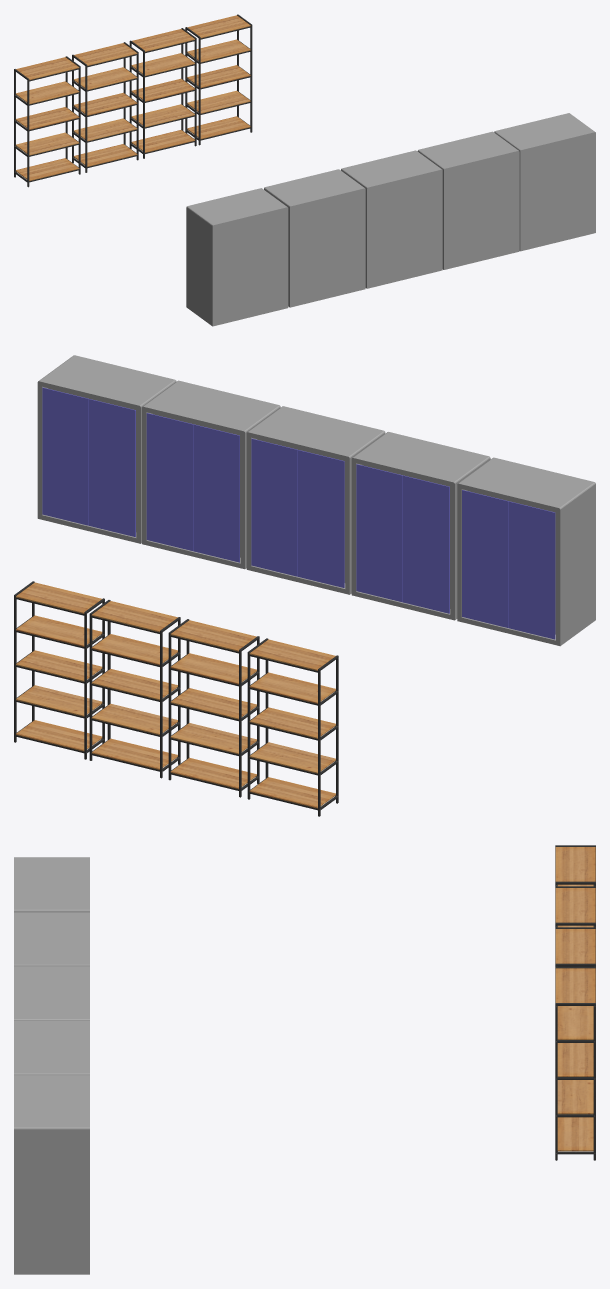
Rendered from Scale.fbx_Workshop.fbx.
3 renders of one model, top to bottom at view 1: azimuth 30°, elevation 25°; view 2: azimuth 150°, elevation 25°; view 3: azimuth 270°, elevation 25°, orthographic. The views are drawn at different scales.
Parts seen in each view (by area): view 1: Cube.012, Cube.014, Cube.016, Cube.018, Cube.020, steel_frame_shelves_01, steel_frame_shelves_01.002, steel_frame_shelves_01.001, steel_frame_shelves_01.003; view 2: Cube.013, Cube.015, Cube.017, Cube.019, Cube.021, Cube.012, steel_frame_shelves_01, steel_frame_shelves_01.001, steel_frame_shelves_01.002, steel_frame_shelves_01.003, Cube.014, Cube.016 (+2 smaller); view 3: Cube.020, steel_frame_shelves_01.003, Cube.012, Cube.014, Cube.016, Cube.018, steel_frame_shelves_01, steel_frame_shelves_01.001, steel_frame_shelves_01.002.
Part boxes in pixels (x1,y1,x2,y2): Cube.012: [186, 188, 288, 326]; Cube.014: [264, 169, 365, 307]; Cube.016: [341, 150, 442, 288]; Cube.018: [417, 131, 519, 269]; Cube.020: [494, 113, 595, 251]; steel_frame_shelves_01: [14, 56, 80, 187]; steel_frame_shelves_01.002: [129, 28, 196, 158]; steel_frame_shelves_01.001: [72, 42, 138, 172]; steel_frame_shelves_01.003: [185, 14, 252, 145]; Cube.013: [462, 490, 555, 639]; Cube.015: [356, 464, 449, 613]; Cube.017: [251, 438, 344, 587]; Cube.019: [146, 413, 239, 562]; Cube.021: [42, 387, 135, 536]; Cube.012: [457, 457, 595, 646]; steel_frame_shelves_01: [247, 638, 338, 816]; steel_frame_shelves_01.001: [168, 619, 259, 797]; steel_frame_shelves_01.002: [89, 600, 180, 778]; steel_frame_shelves_01.003: [14, 581, 104, 759]; Cube.014: [351, 432, 490, 620]; Cube.016: [246, 406, 385, 594]; Cube.020: [14, 1075, 89, 1274]; steel_frame_shelves_01.003: [555, 966, 595, 1160]; Cube.012: [14, 857, 89, 912]; Cube.014: [14, 912, 89, 966]; Cube.016: [14, 966, 89, 1020]; Cube.018: [14, 1021, 89, 1075]; steel_frame_shelves_01: [555, 845, 595, 886]; steel_frame_shelves_01.001: [555, 886, 595, 927]; steel_frame_shelves_01.002: [555, 927, 595, 1077].
Size of the model in its own units: 7.94 by 7.2 by 2.18.
